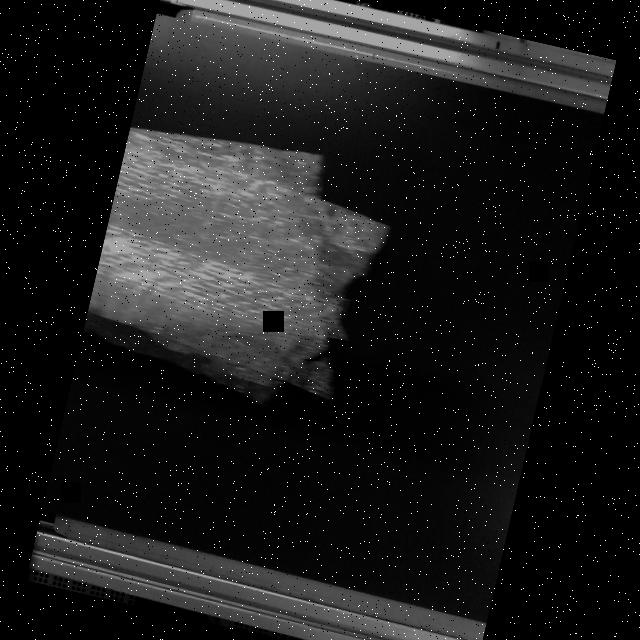scrap_plastic: (74, 110, 404, 425)
